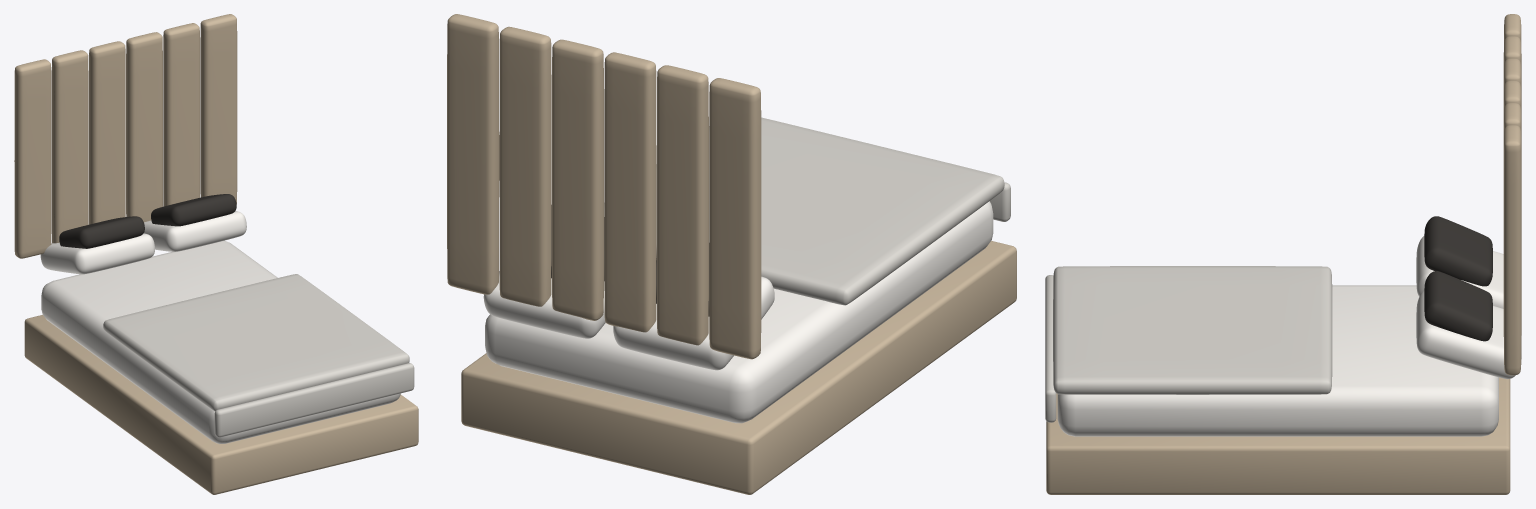
Rendered from bl_bed_single_beige.glb.
3 views of the same model, side by side, from view 1: azimuth 30°, elevation 25°; view 2: azimuth 150°, elevation 25°; view 3: azimuth 270°, elevation 25° (orthographic). The views are drawn at different scales.
Visible parts, largest first — view 1: duvet, platform, mattress, hb0, hb5, hb1, hb3, hb2, hb4, duvetDrop, pillow, pillow.001 (+2 smaller); view 2: platform, duvet, mattress, hb0, hb2, hb4, hb1, hb5, hb3, pillow, pillow.001; view 3: duvet, mattress, platform, hb5, pillow2.001, pillow.001, pillow2, duvetDrop, pillow.
Part boxes in pixels (x1,y1,x2,y2): duvet: (103, 274, 409, 410); platform: (24, 315, 418, 494); mattress: (41, 240, 400, 444); hb0: (14, 59, 51, 258); hb5: (200, 14, 237, 203); hb1: (51, 50, 88, 243); hb3: (126, 32, 162, 222); hb2: (89, 41, 125, 224); hb4: (163, 23, 199, 206); duvetDrop: (214, 363, 414, 437); pillow: (40, 233, 154, 274); pillow.001: (144, 211, 246, 251); platform: (461, 241, 1016, 494); duvet: (604, 117, 1004, 305); mattress: (485, 201, 993, 423); hb0: (709, 78, 761, 359); hb2: (604, 52, 656, 332); hb4: (499, 26, 551, 306); hb1: (656, 65, 708, 345); hb5: (447, 14, 499, 294); hb3: (552, 39, 603, 320); pillow: (613, 276, 774, 370); pillow.001: (483, 271, 605, 338); duvet: (1053, 266, 1332, 394); mattress: (1057, 285, 1498, 436); platform: (1046, 377, 1510, 494); hb5: (1503, 125, 1521, 375); pillow2.001: (1424, 271, 1492, 341); pillow.001: (1416, 291, 1521, 379); pillow2: (1424, 216, 1492, 286); duvetDrop: (1045, 275, 1056, 422); pillow: (1416, 236, 1503, 308).
Bounding box in the file's own units: 1.38 × 1.75 × 2.12.
